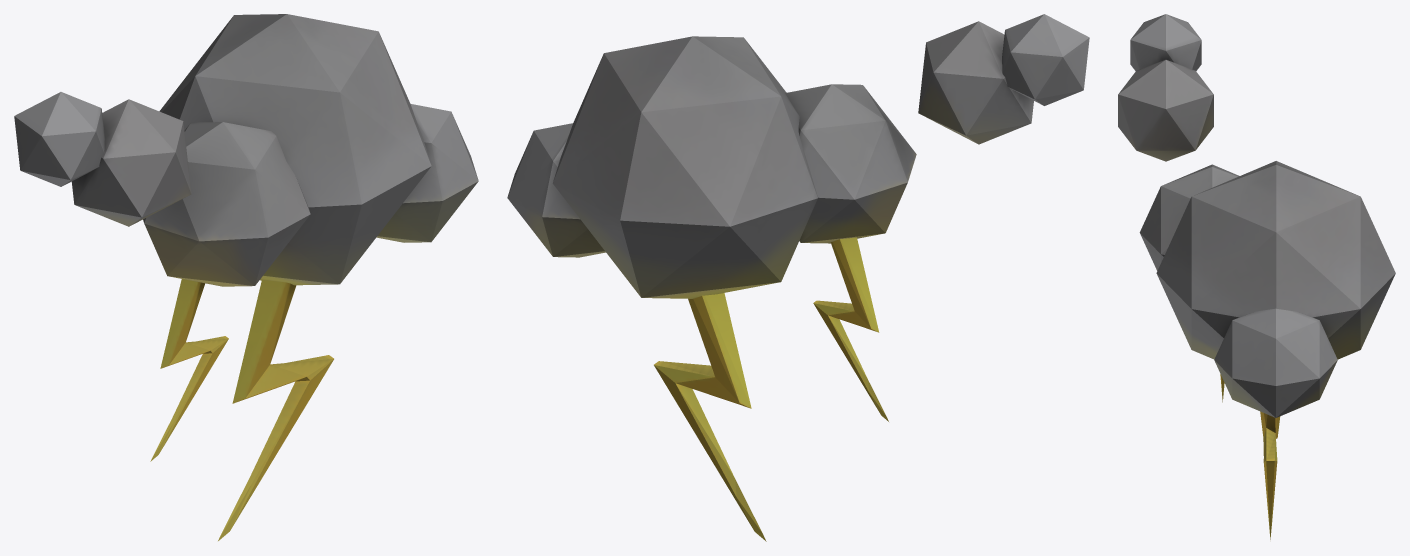
File: Cloud_9.fbx
The picture shows the model from 3 angles, left to right: view 1: azimuth 30°, elevation 25°; view 2: azimuth 150°, elevation 25°; view 3: azimuth 270°, elevation 25°; orthographic projection. The views are drawn at different scales.
Parts seen in each view (by area): view 1: Cloud_9; view 2: Cloud_9; view 3: Cloud_9.
Part boxes in pixels (left/top/right/bottom): Cloud_9: left=14, top=14, right=478, bottom=540; Cloud_9: left=507, top=14, right=1089, bottom=541; Cloud_9: left=1118, top=14, right=1395, bottom=539.
Size of the model in its own units: 89.6 by 90.99 by 51.89.
